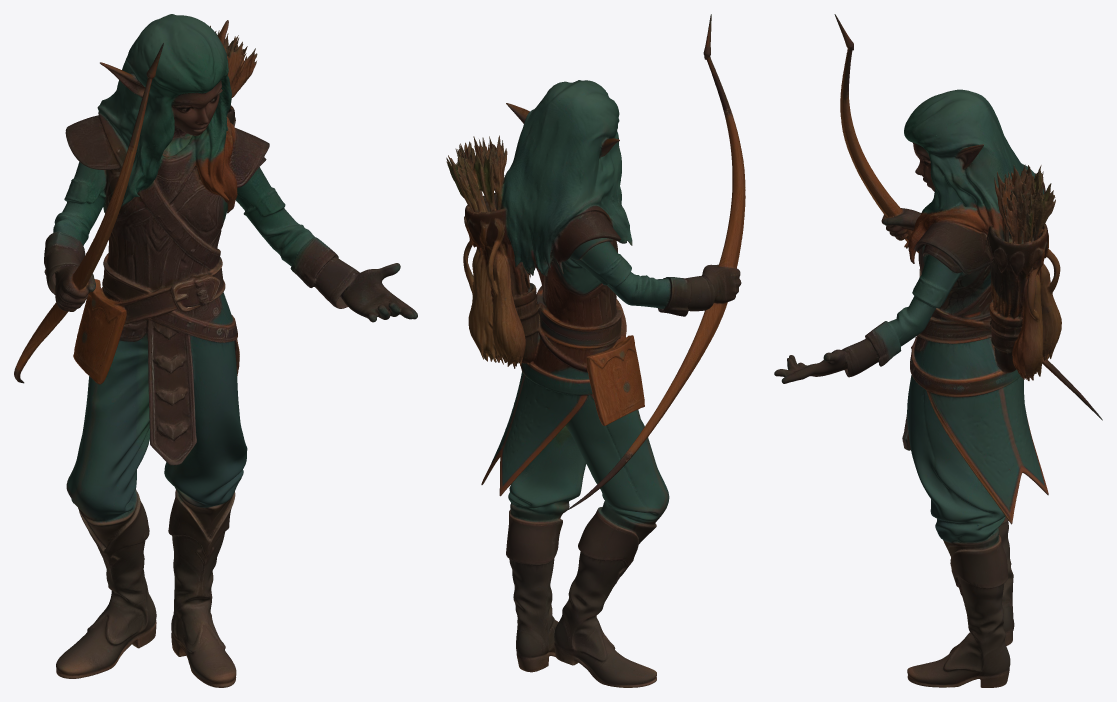
The model's file is TX-a-male-fantasy-elven-ran-219.glb.
3 renders of one model, left to right at view 1: azimuth 30°, elevation 25°; view 2: azimuth 150°, elevation 25°; view 3: azimuth 270°, elevation 25°, orthographic. The views are drawn at different scales.
Bounding box in the file's own units: 0.8509 × 1.9 × 0.9122.
Materials: 1 (1 with a texture image).
